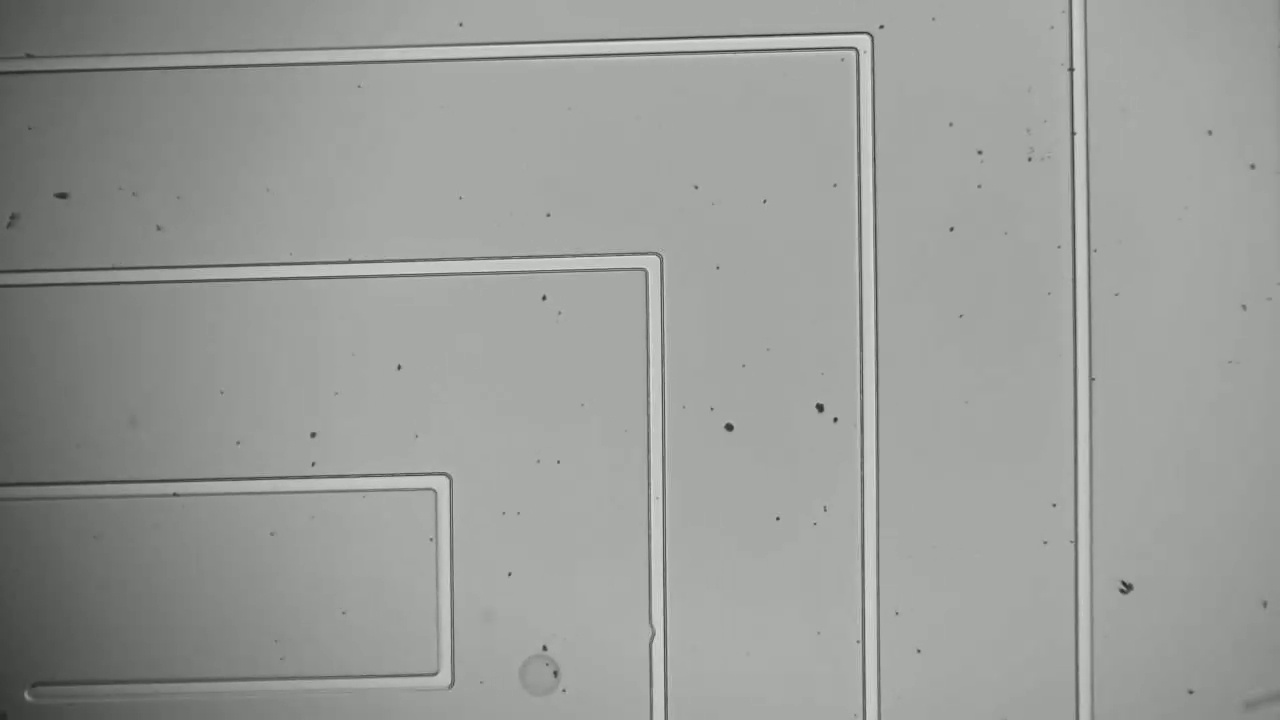edge_bite: (638, 614, 679, 651)
